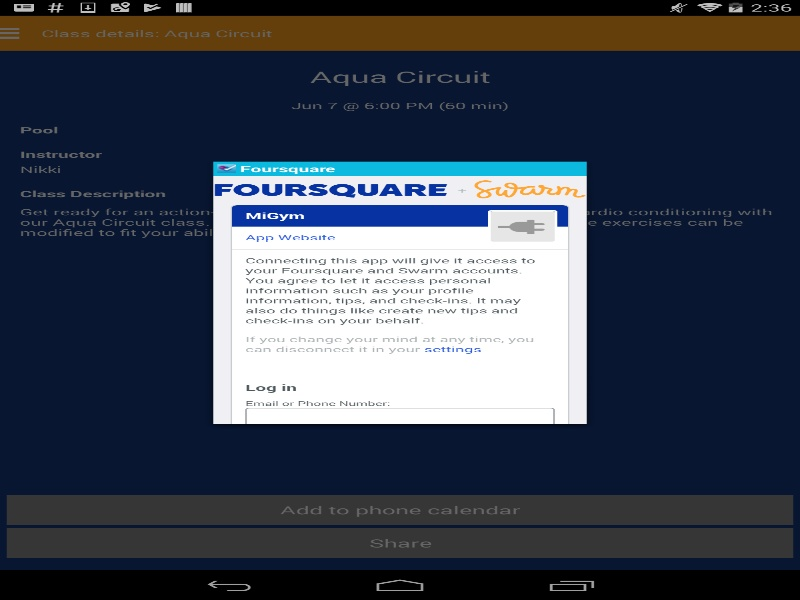Button: (245, 469, 554, 489)
Input: (245, 407, 554, 427), (245, 439, 554, 459)
